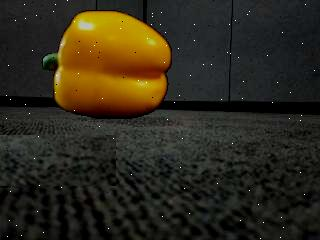Capsicum: (42, 11, 173, 120)
